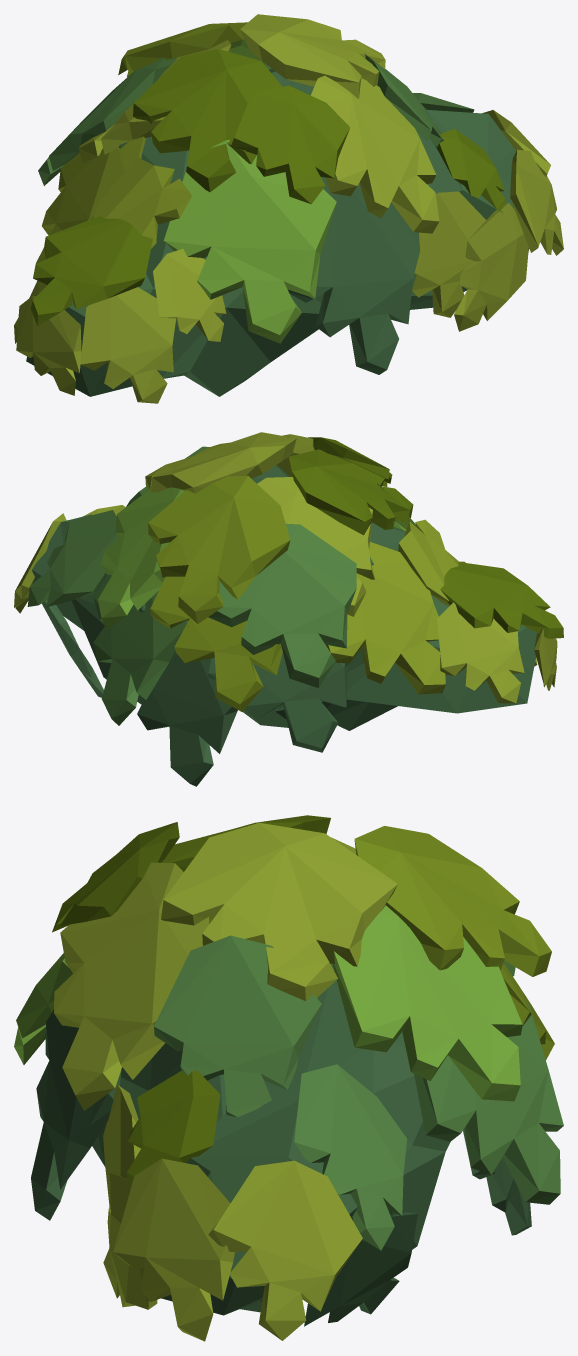
The model's file is meadow-bush.glb.
3 renders of one model, top to bottom at view 1: azimuth 30°, elevation 25°; view 2: azimuth 150°, elevation 25°; view 3: azimuth 270°, elevation 25°, orthographic. The views are drawn at different scales.
Parts seen in each view (by area): view 1: EA_M_Env_Bush_LeafClusterLarge_01a; view 2: EA_M_Env_Bush_LeafClusterLarge_01a; view 3: EA_M_Env_Bush_LeafClusterLarge_01a.
Part boxes in pixels (left/top/right/bottom): EA_M_Env_Bush_LeafClusterLarge_01a: left=14, top=14, right=563, bottom=403; EA_M_Env_Bush_LeafClusterLarge_01a: left=14, top=432, right=563, bottom=786; EA_M_Env_Bush_LeafClusterLarge_01a: left=14, top=815, right=563, bottom=1341.
Bounding box in the file's own units: 4.31 × 2.34 × 2.79.
1 material, 1 textured.
